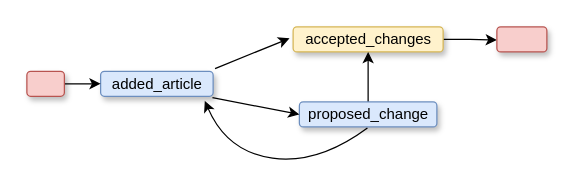
Image size: 576x181. Some labels were removed from this diagram. Here are the shapes that lost their labels. From the top down, the centre of each, then its label:
point 522,41: end
point 46,85: init
